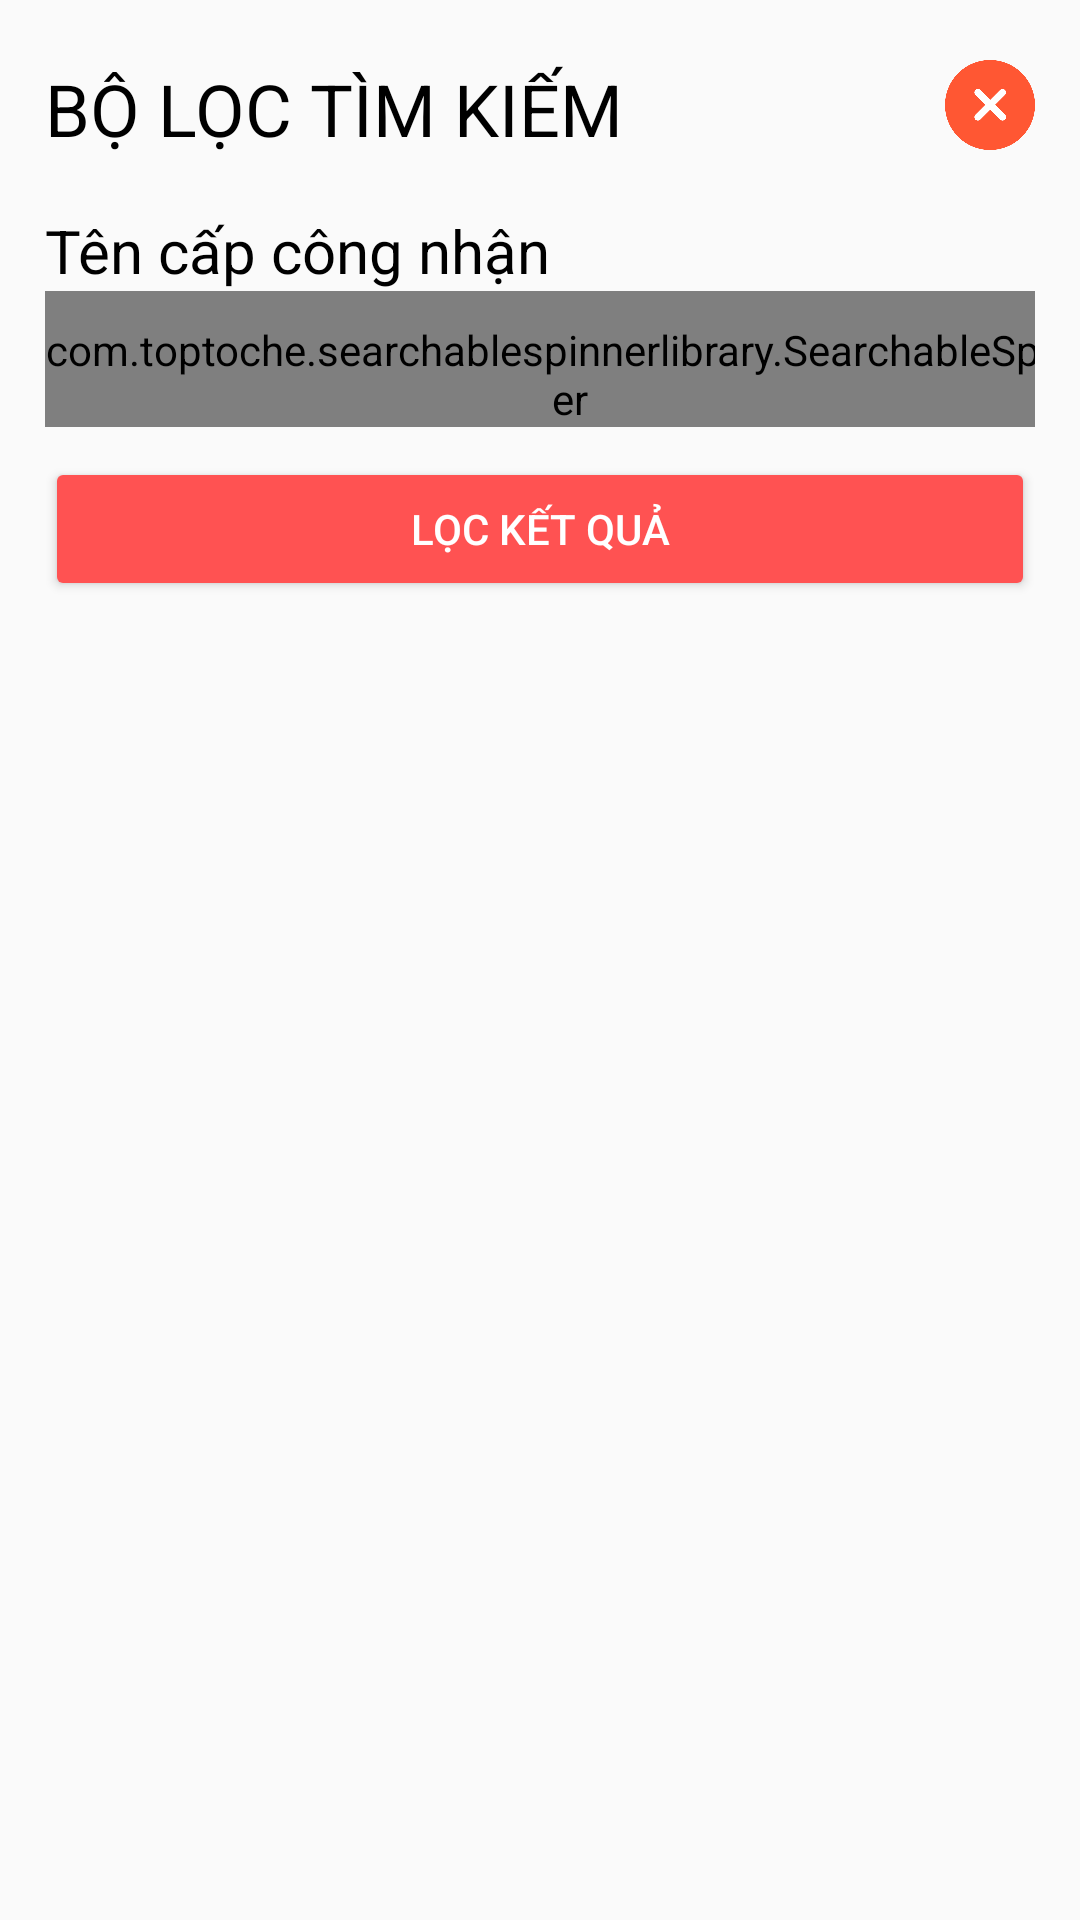

Icon click points for this 1080 x 1920 phone screenshot, format (x,y):
cancel: (990,105)
